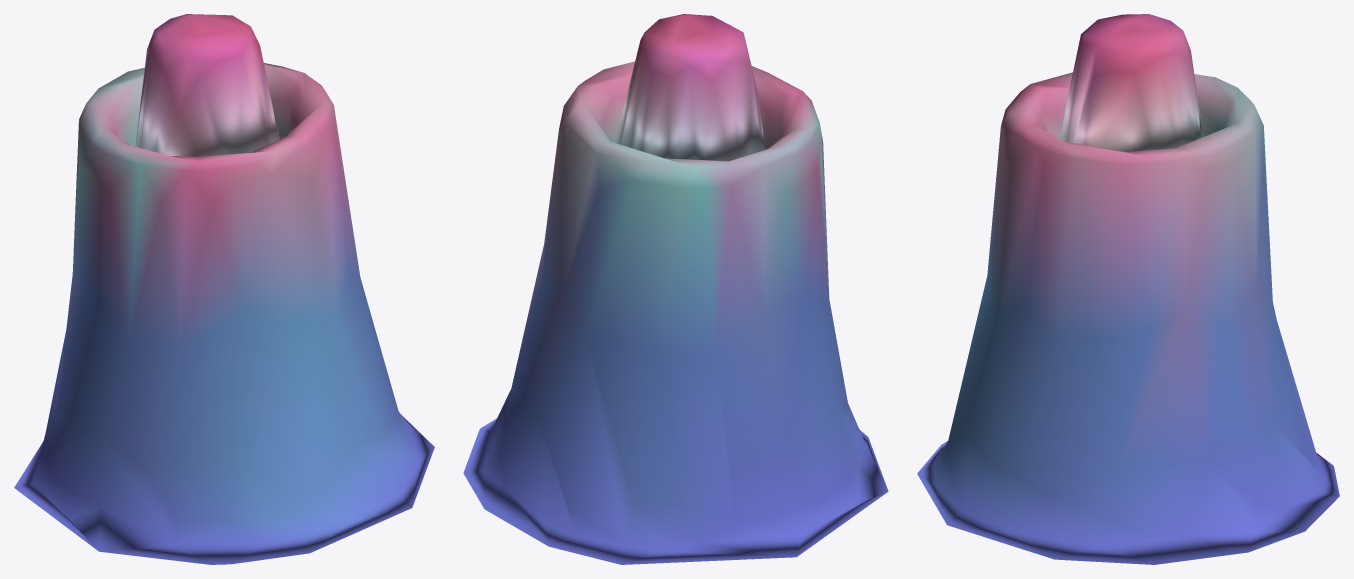
3 renders of one model, left to right at view 1: azimuth 30°, elevation 25°; view 2: azimuth 150°, elevation 25°; view 3: azimuth 270°, elevation 25°, orthographic.
Parts seen in each view (by area): view 1: LOD 5_18409866040645993065_000c7580005880844991c3b836c91307; view 2: LOD 5_18409866040645993065_000c7580005880844991c3b836c91307; view 3: LOD 5_18409866040645993065_000c7580005880844991c3b836c91307.
Boxes of the visible parts, x1,y1,x2,y2 form: LOD 5_18409866040645993065_000c7580005880844991c3b836c91307: (14, 14, 434, 564); LOD 5_18409866040645993065_000c7580005880844991c3b836c91307: (463, 14, 888, 564); LOD 5_18409866040645993065_000c7580005880844991c3b836c91307: (917, 14, 1339, 564).
Size of the model in its own units: 1.2 by 1.49 by 1.25.
